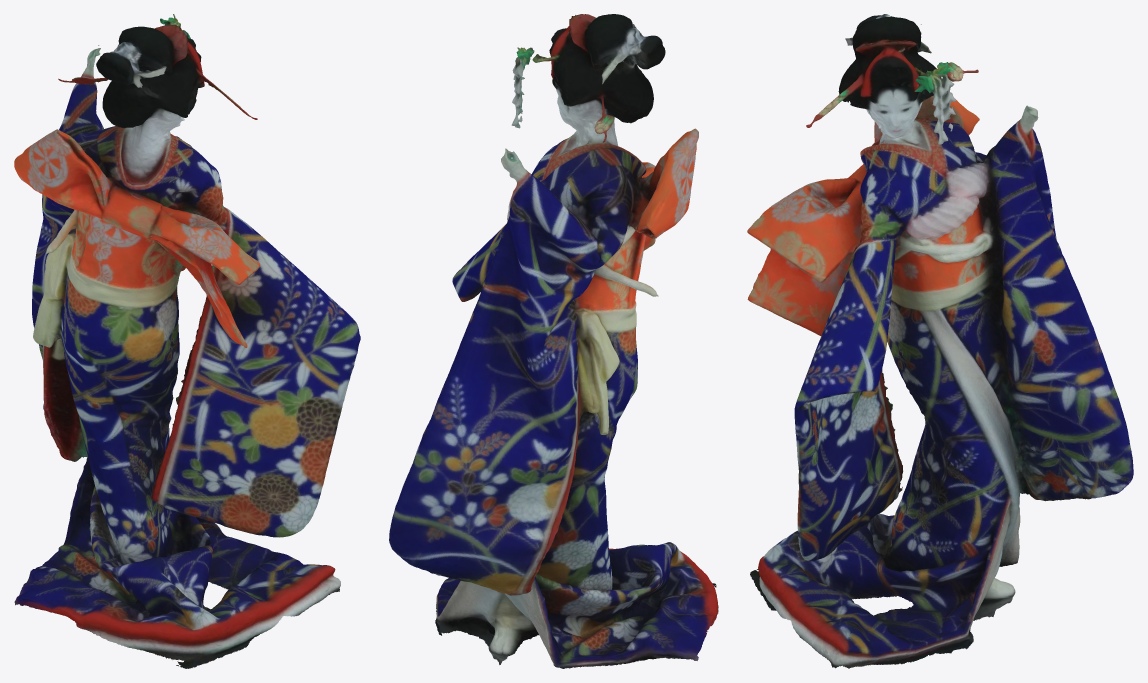
File: geisha_optimized.glb
3 renders of one model, left to right at view 1: azimuth 30°, elevation 25°; view 2: azimuth 150°, elevation 25°; view 3: azimuth 270°, elevation 25°, orthographic. The views are drawn at different scales.
Size of the model in its own units: 1.54 by 3.09 by 1.88.
Materials: 1 (1 with a texture image).
